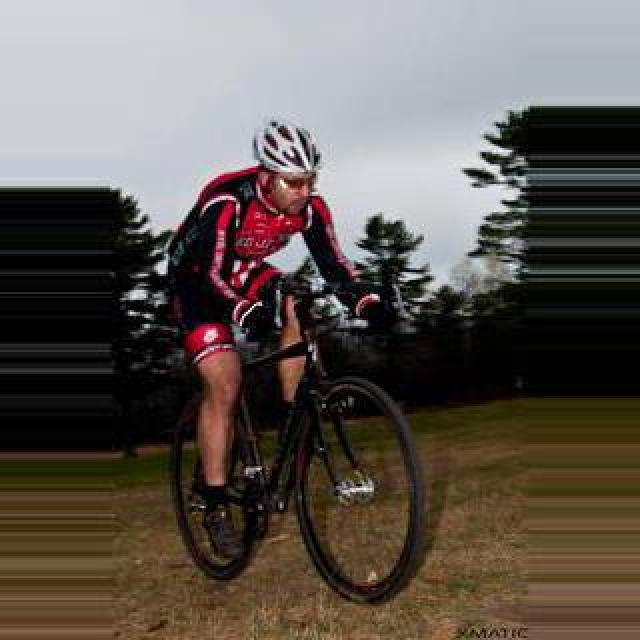MC-Bike: (164, 118, 364, 576)
Person: (170, 279, 424, 607)
